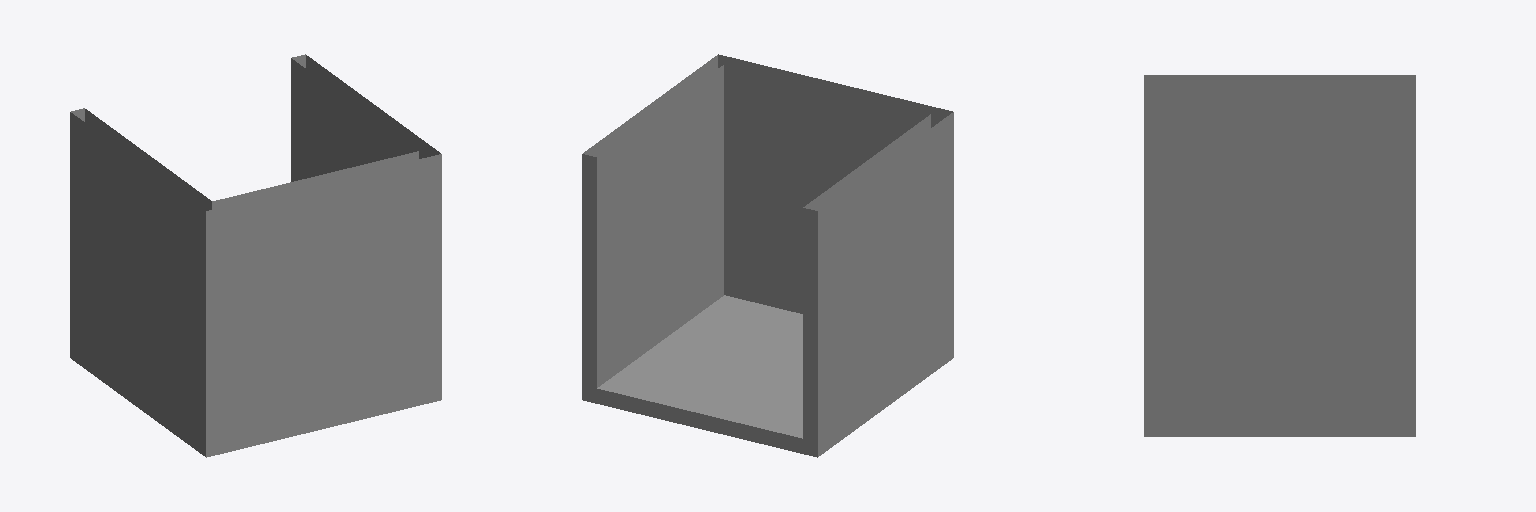
The model's file is locker_large_bottom.obj.
The picture shows the model from 3 angles: view 1: azimuth 30°, elevation 25°; view 2: azimuth 150°, elevation 25°; view 3: azimuth 270°, elevation 25°; orthographic projection.
Visible parts, largest first — view 1: locker_large_bottom; view 2: locker_large_bottom; view 3: locker_large_bottom.
Part boxes in pixels (left/top/right/bottom): locker_large_bottom: left=70, top=54, right=441, bottom=457; locker_large_bottom: left=582, top=54, right=953, bottom=457; locker_large_bottom: left=1144, top=75, right=1415, bottom=436.
Bounding box in the file's own units: 1 × 1 × 1.